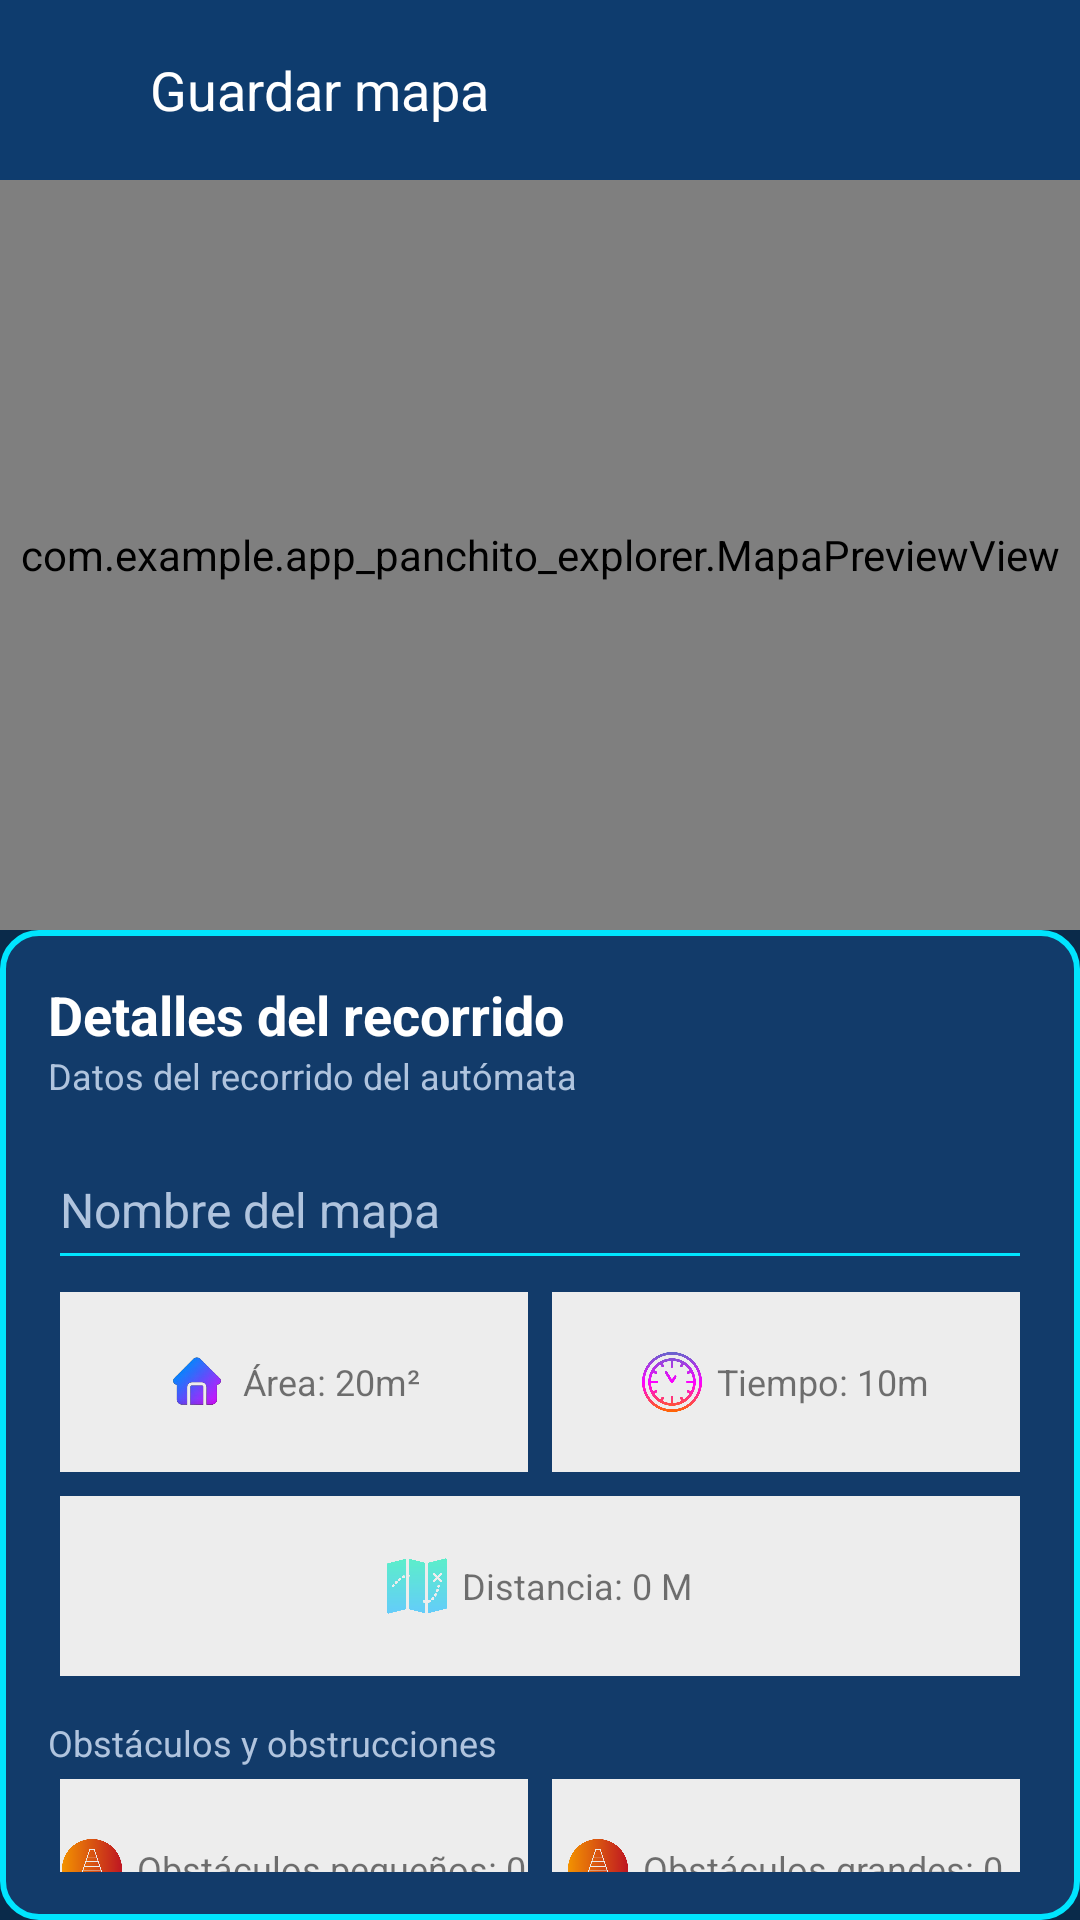

Where icons sit on this 1080w x 1920h app screen, as (x1, y1, x2, y2):
home: (173, 1357, 221, 1405)
mapa: (387, 1558, 447, 1614)
reloj: (642, 1352, 702, 1412)
